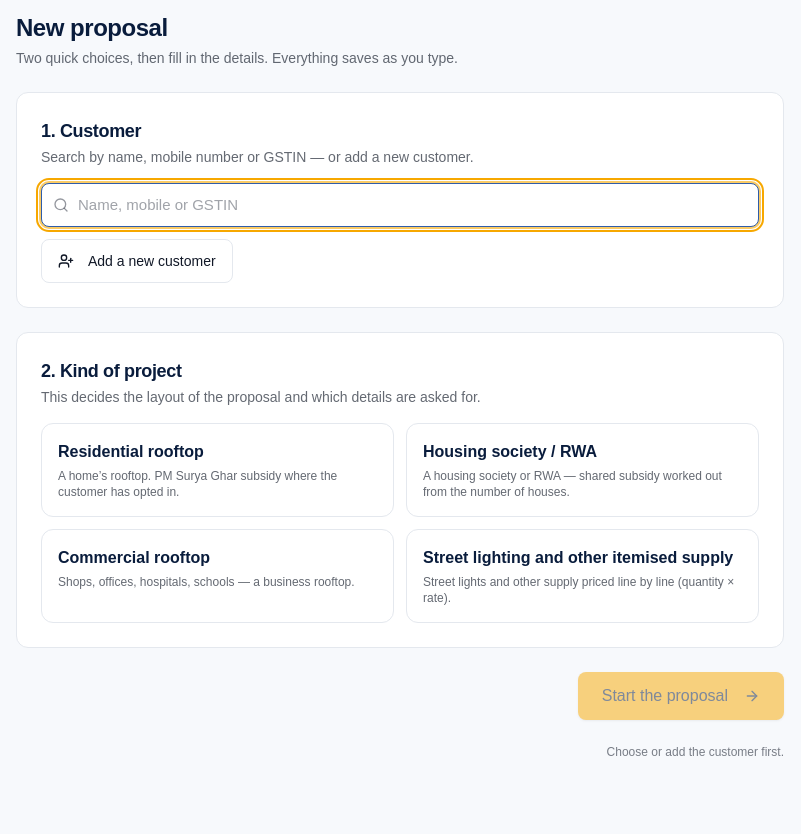
New proposal › a refused mobile shows under the mobile field
Click the button with test id "add-customer": (137, 261) [41,239,233,283]
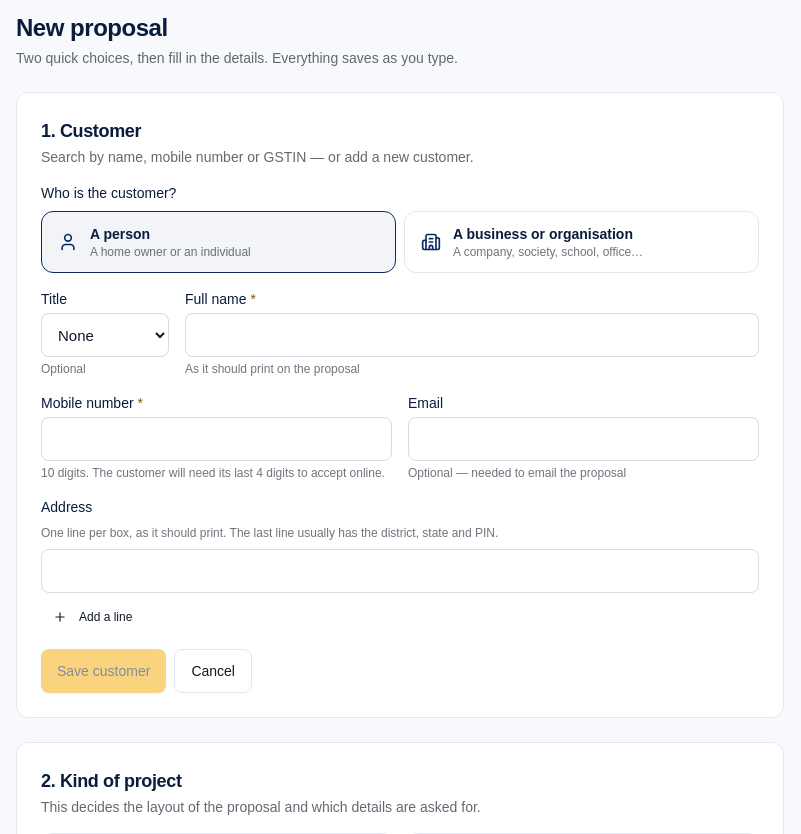
In the field labelled "Full name*": (472, 335) [185,313,759,357], type "Ramesh Das"
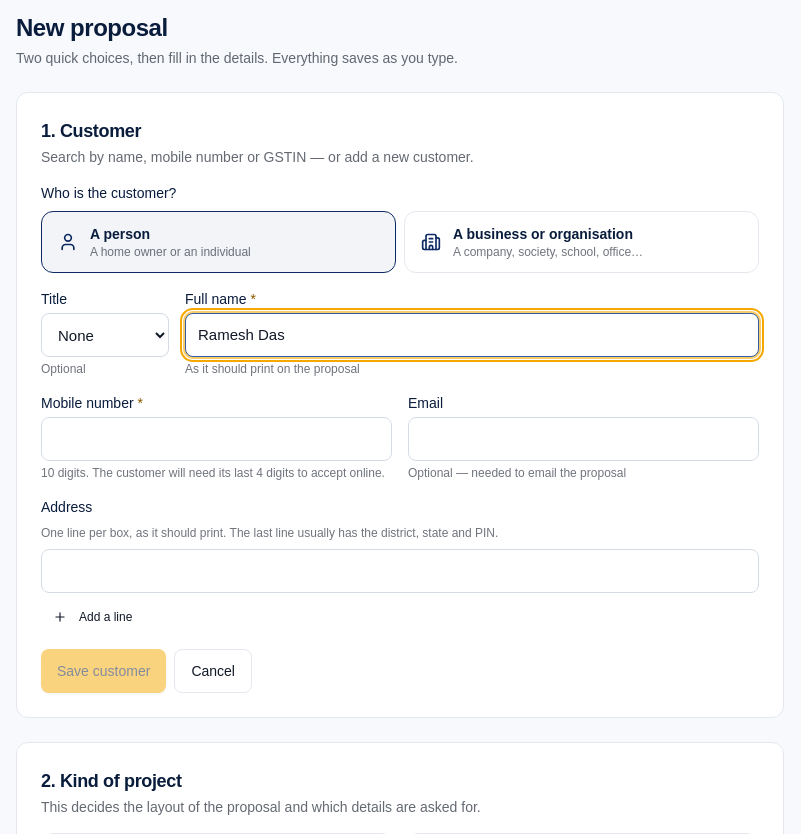
In the field labelled "Mobile number*": (216, 439) [41,417,392,461], type "98300"
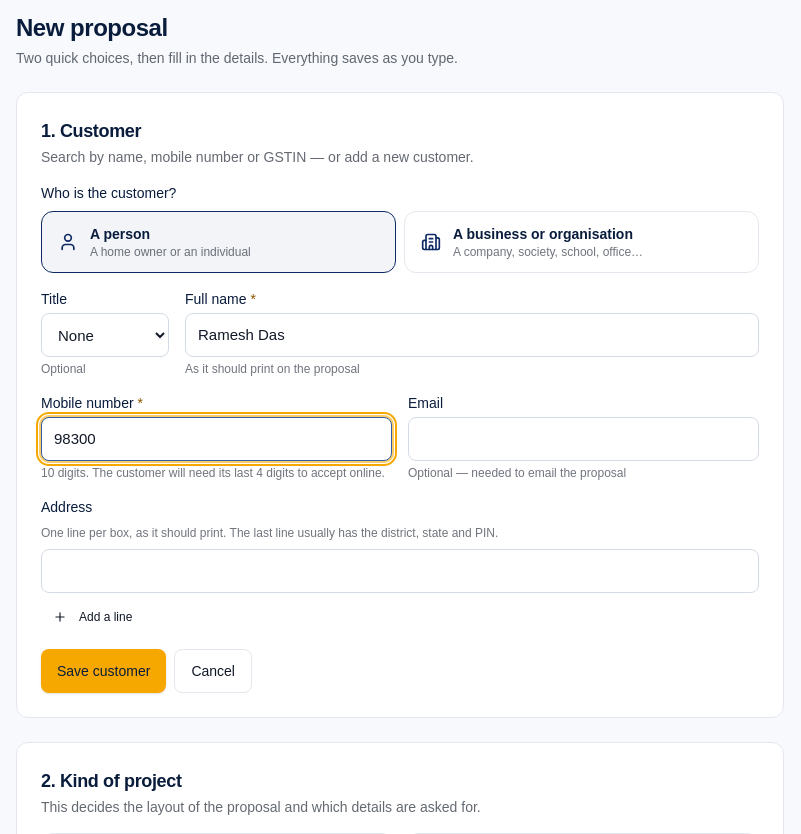
Click the button "Save customer": (104, 671) [41,649,166,693]
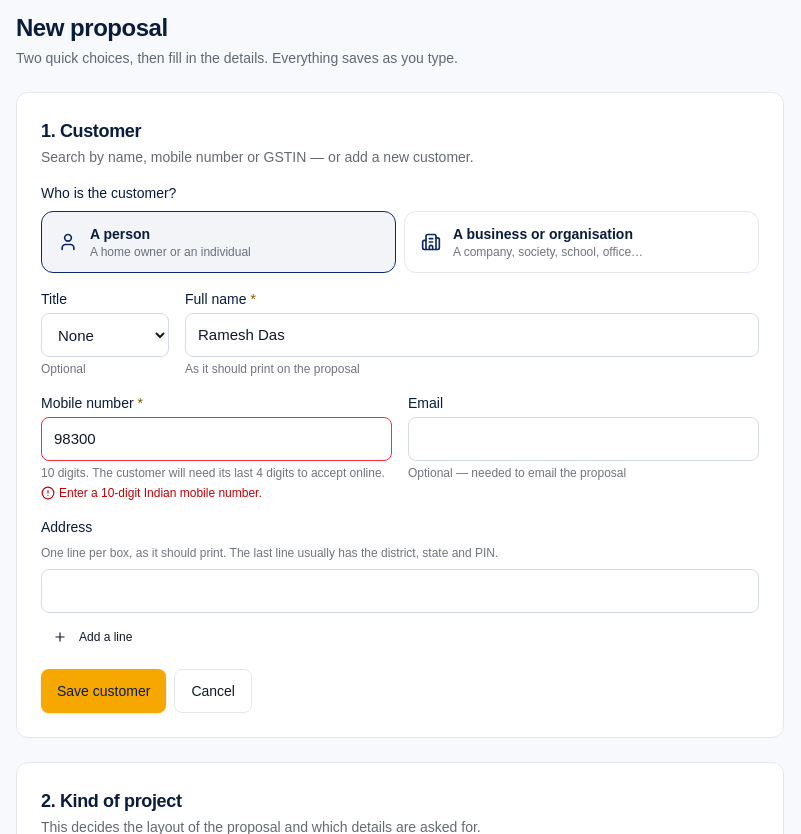
Check: the text "Enter a 10-digit Indian mobile number." is shown, box [41,486,262,500]
